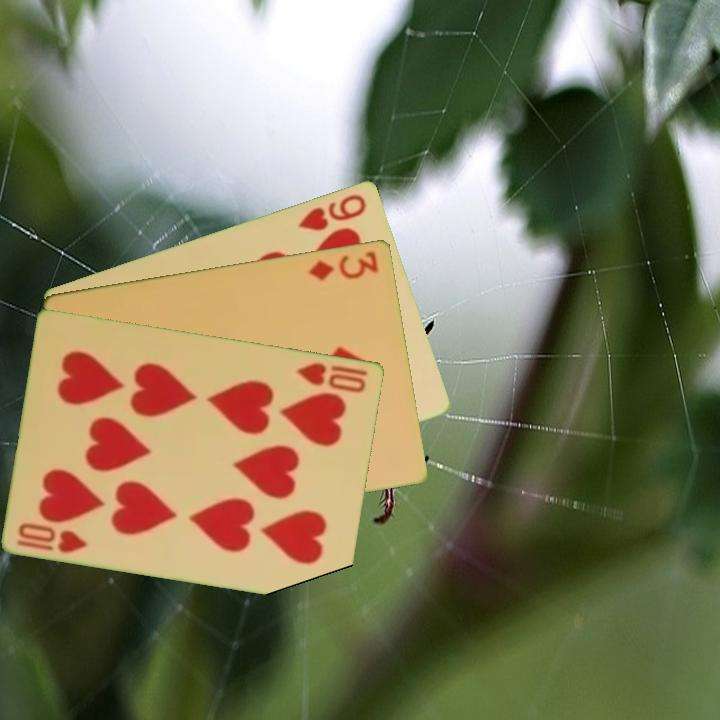10h: (294, 358, 371, 396), (13, 519, 91, 556)
3d: (305, 247, 382, 283)
9h: (295, 190, 370, 234)
